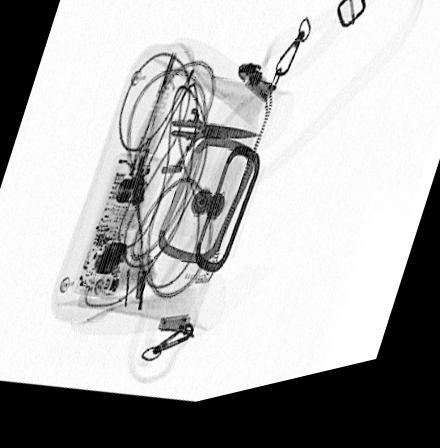Scissors: (164, 112, 262, 165)
